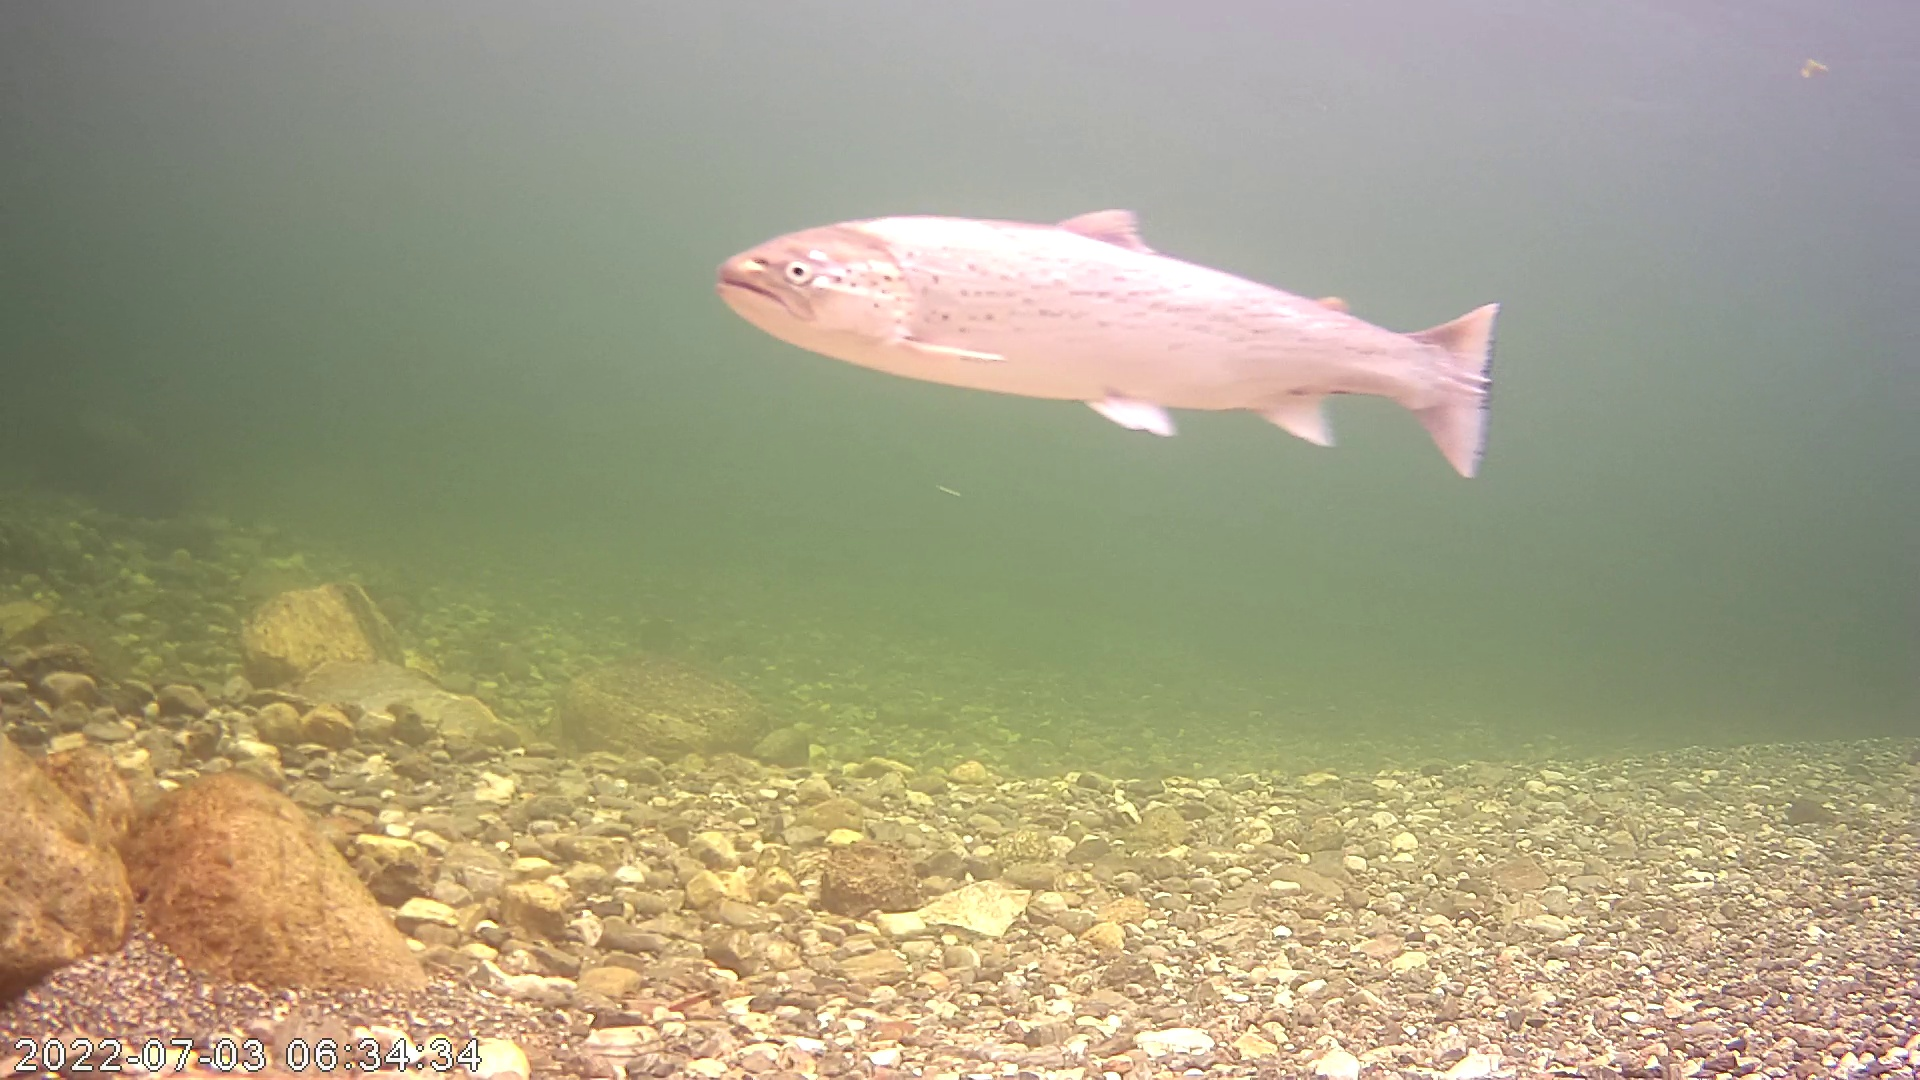salmon: (713, 207, 1502, 483)
